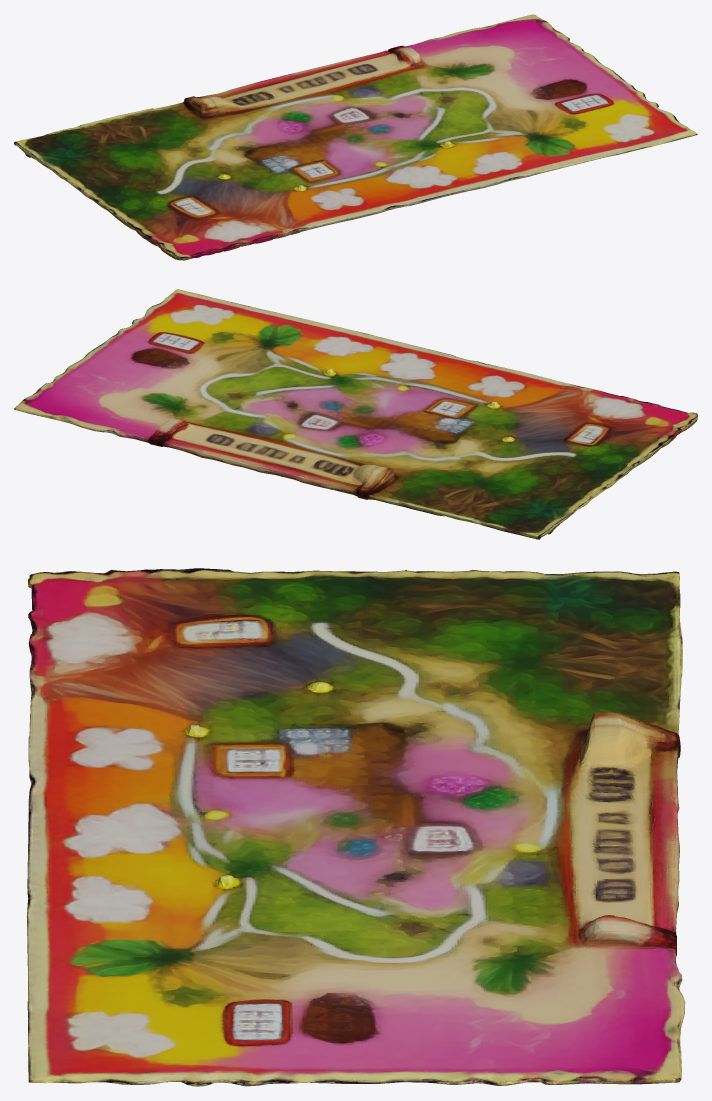
Rendered from harbor-continent-guan.glb.
3 renders of one model, top to bottom at view 1: azimuth 30°, elevation 25°; view 2: azimuth 150°, elevation 25°; view 3: azimuth 270°, elevation 25°, orthographic. The views are drawn at different scales.
Visible parts, largest first — view 1: geometry_0; view 2: geometry_0; view 3: geometry_0.
Part boxes in pixels (<box>): geometry_0: <box>14,14,697,260</box>; geometry_0: <box>14,289,697,539</box>; geometry_0: <box>26,568,685,1086</box>.
Size of the model in its own units: 1 by 0.0346 by 0.5447.
Materials: 1 (1 with a texture image).
